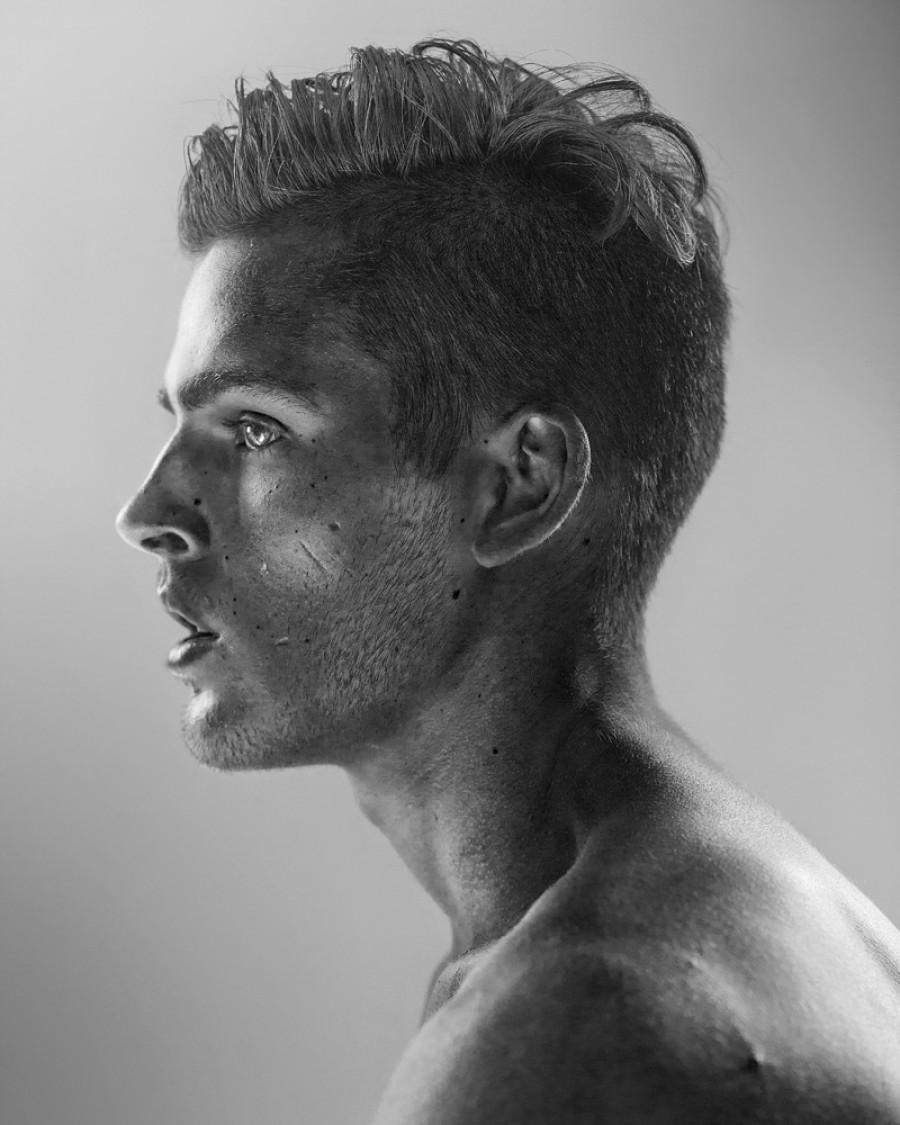Eyes: (214, 400, 297, 462)
